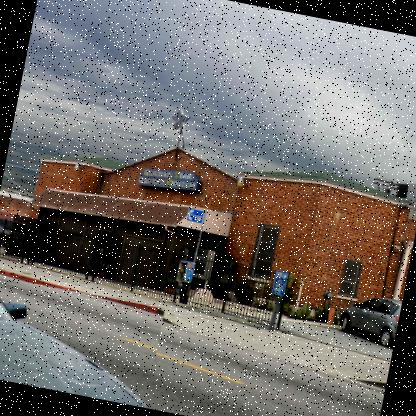Car: (0, 272, 167, 408), (335, 291, 401, 348), (0, 217, 15, 249)
